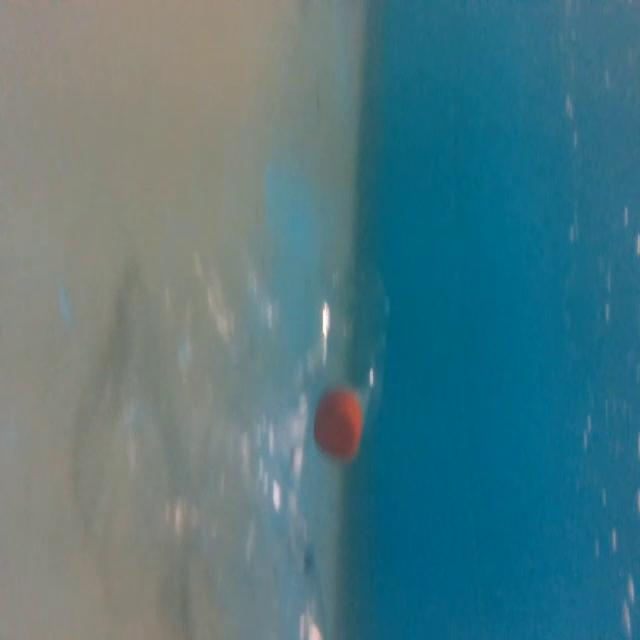plastic bottle: (120, 266, 319, 636), (315, 261, 397, 457)
